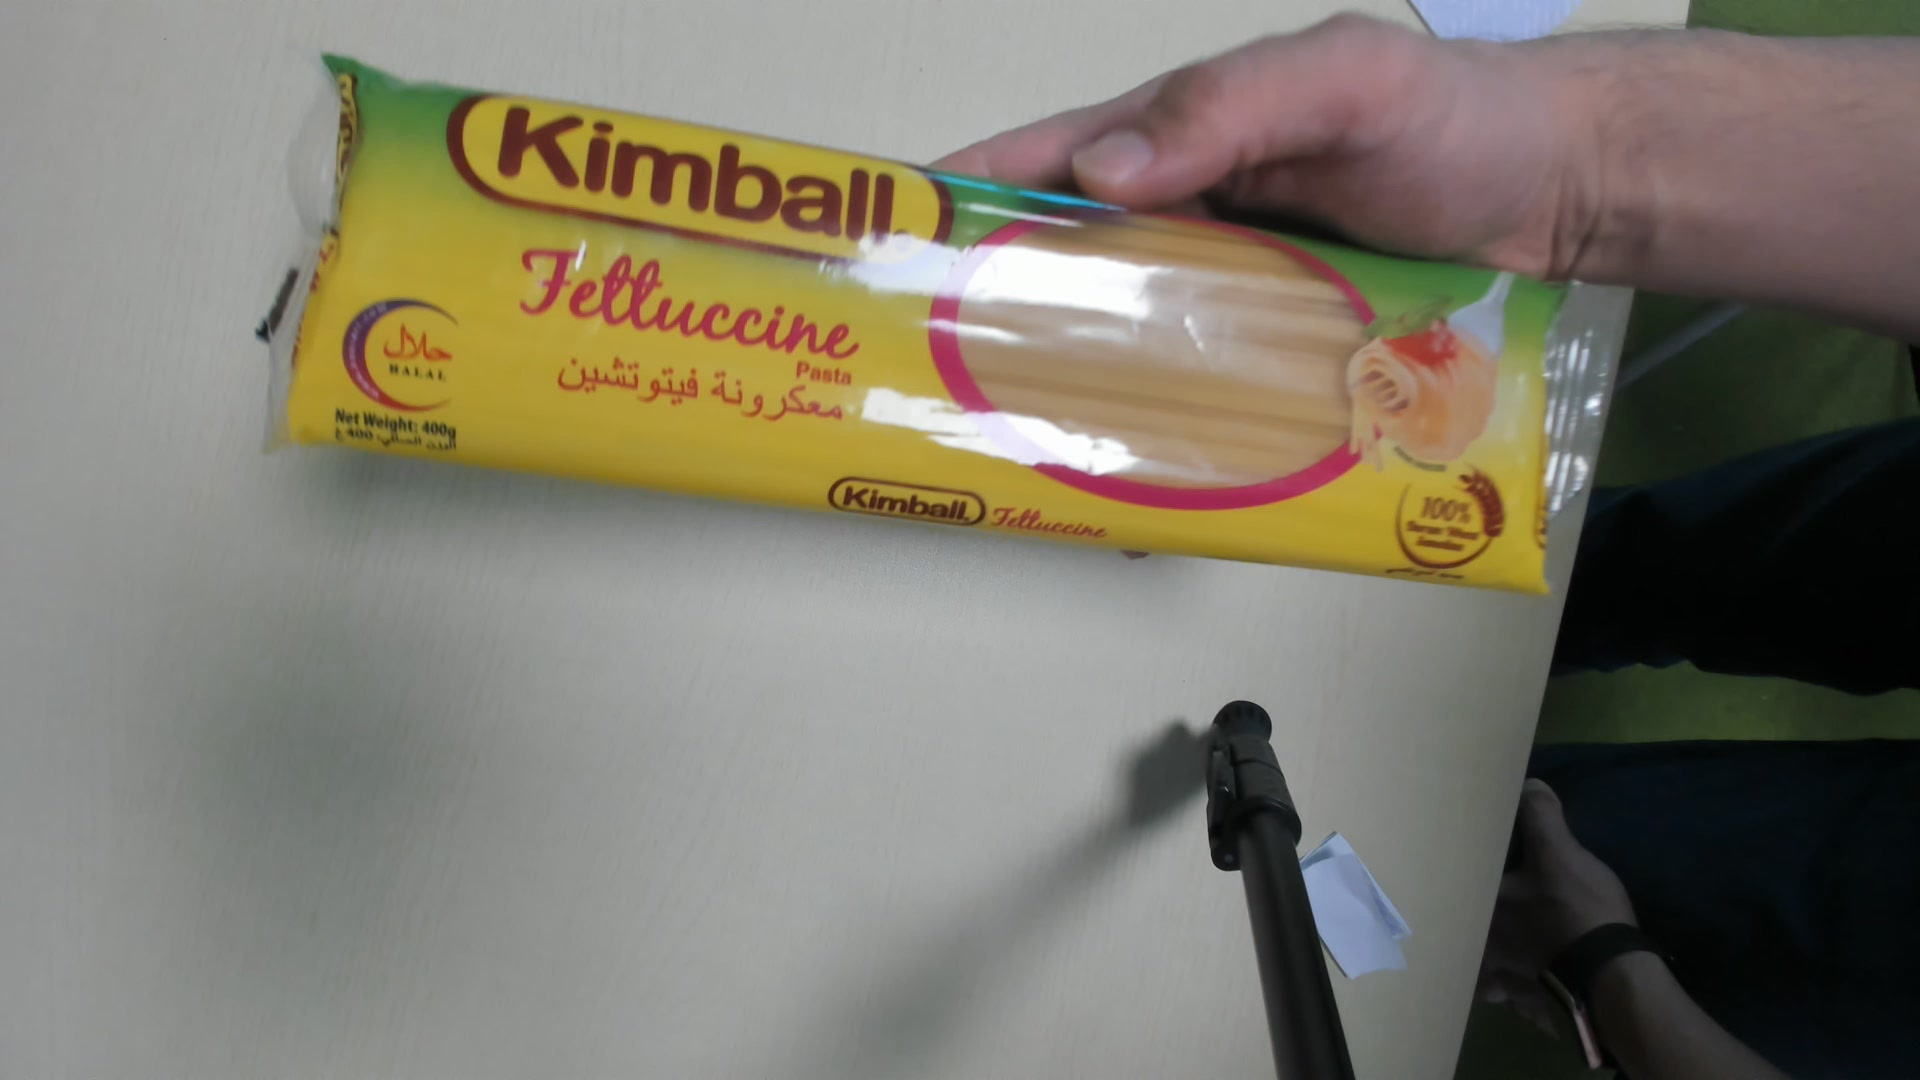Pasta_400-499g_Halal_NonHealthy: (251, 63, 1600, 603)
